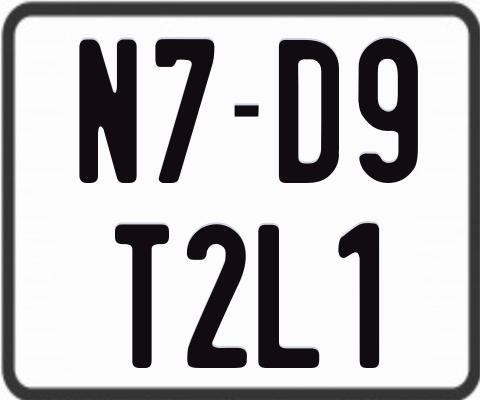1: (337, 223, 380, 369)
2: (186, 223, 248, 369)
7: (154, 38, 215, 183)
9: (356, 36, 419, 185)
D: (279, 37, 343, 182)
L: (257, 222, 322, 365)
N: (78, 36, 136, 184)
T: (115, 224, 171, 369)
